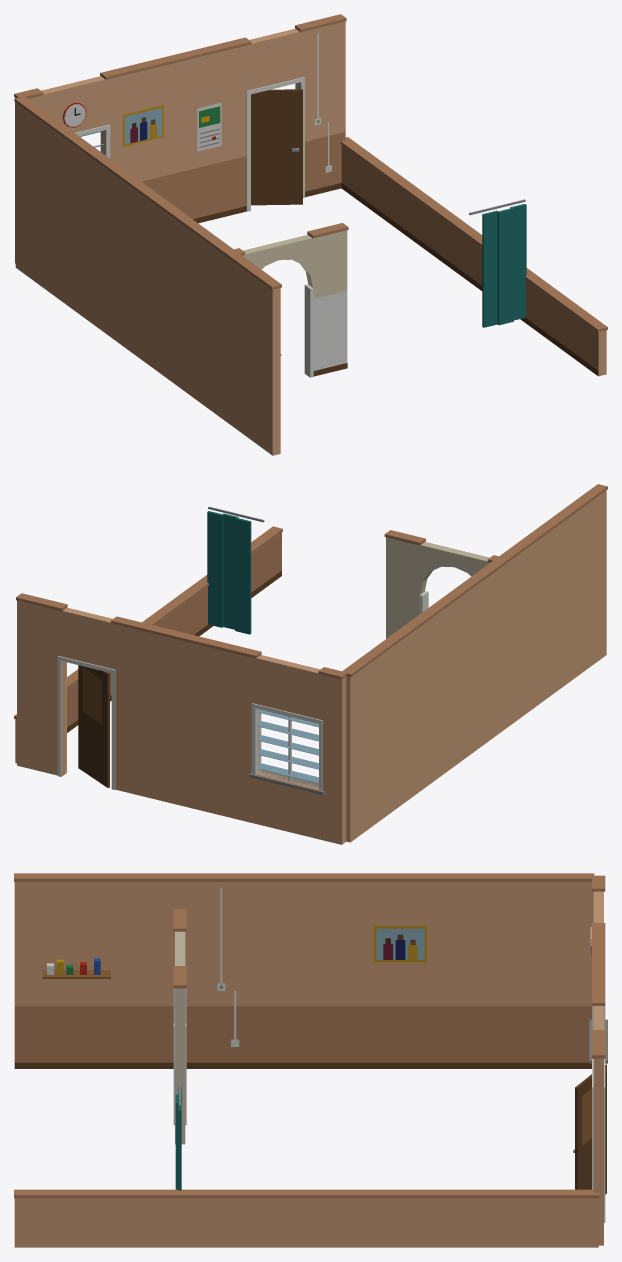
File: bld_home-family-room.glb
3 views of the same model, one above another, from view 1: azimuth 30°, elevation 25°; view 2: azimuth 150°, elevation 25°; view 3: azimuth 270°, elevation 25° (orthographic). The views are drawn at different scales.
Parts seen in each view (by area): view 1: body; view 2: body; view 3: body.
Part boxes in pixels (x1,y1,x2,y2): body: (14, 14, 607, 455); body: (14, 484, 607, 844); body: (14, 873, 607, 1247).
Bounding box in the file's own units: 6.34 × 3.05 × 8.62.
